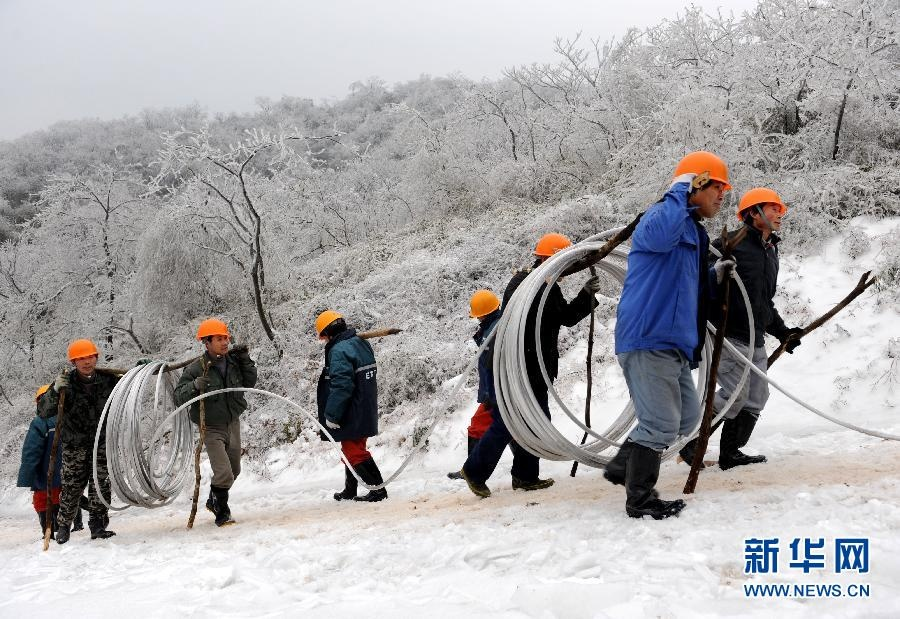yellow: (669, 149, 729, 217), (737, 186, 786, 235), (534, 231, 573, 280), (64, 335, 100, 375), (197, 317, 232, 356), (468, 284, 499, 324), (312, 308, 348, 342)
